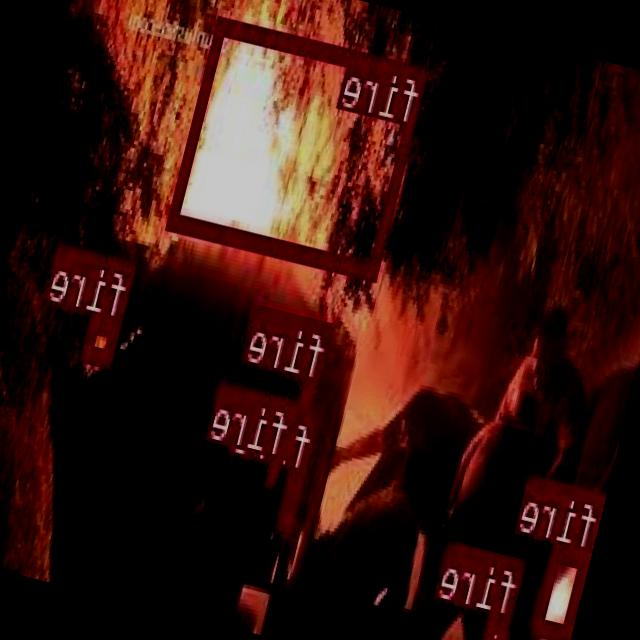fire: (169, 15, 430, 278), (534, 542, 592, 639), (83, 313, 123, 364), (278, 468, 308, 532), (298, 376, 322, 414), (483, 614, 513, 640), (267, 458, 285, 482)
